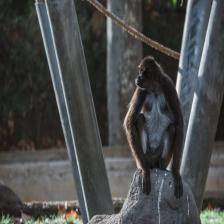monkey: (120, 52, 187, 203)
